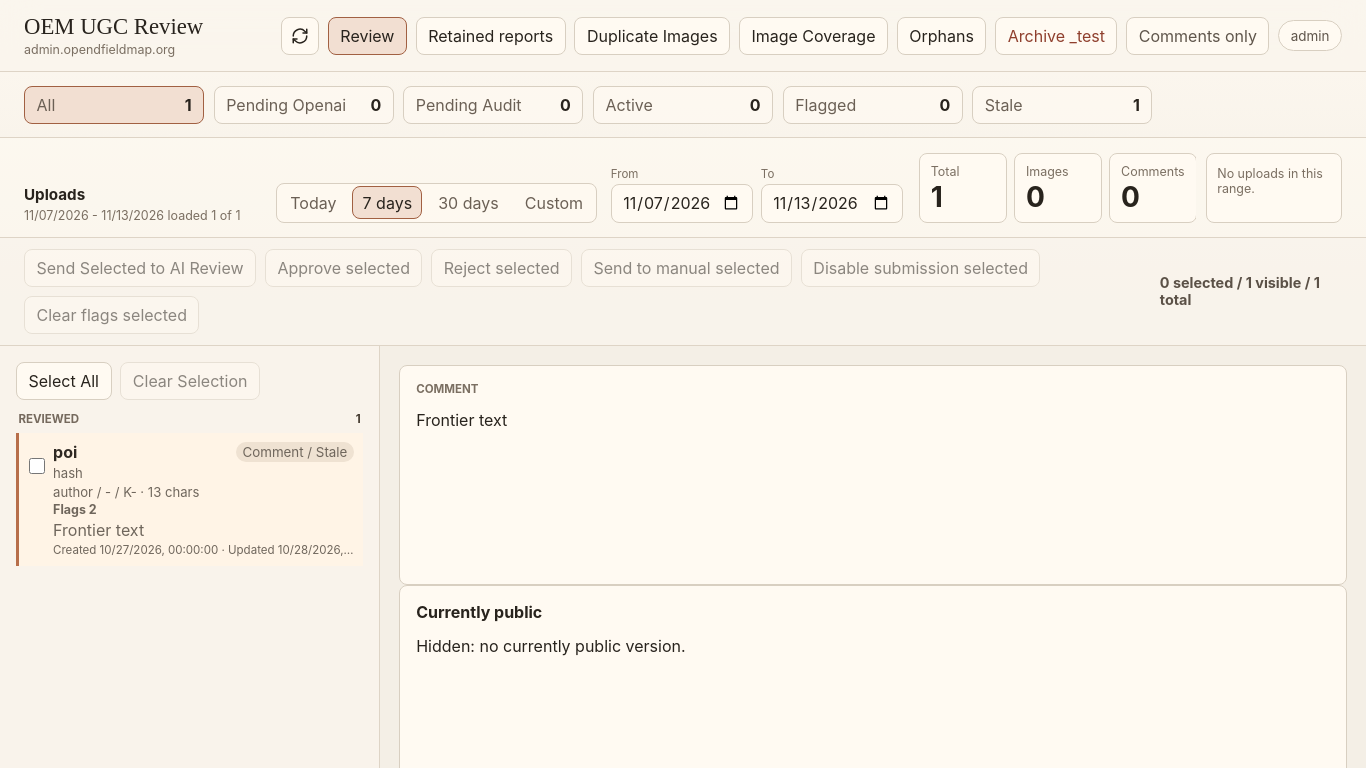
browses hidden comment and image reports without queue dates, pages, and resets after clearing
Click the button "Retained reports" at (491, 36), box [416,16,566,54]
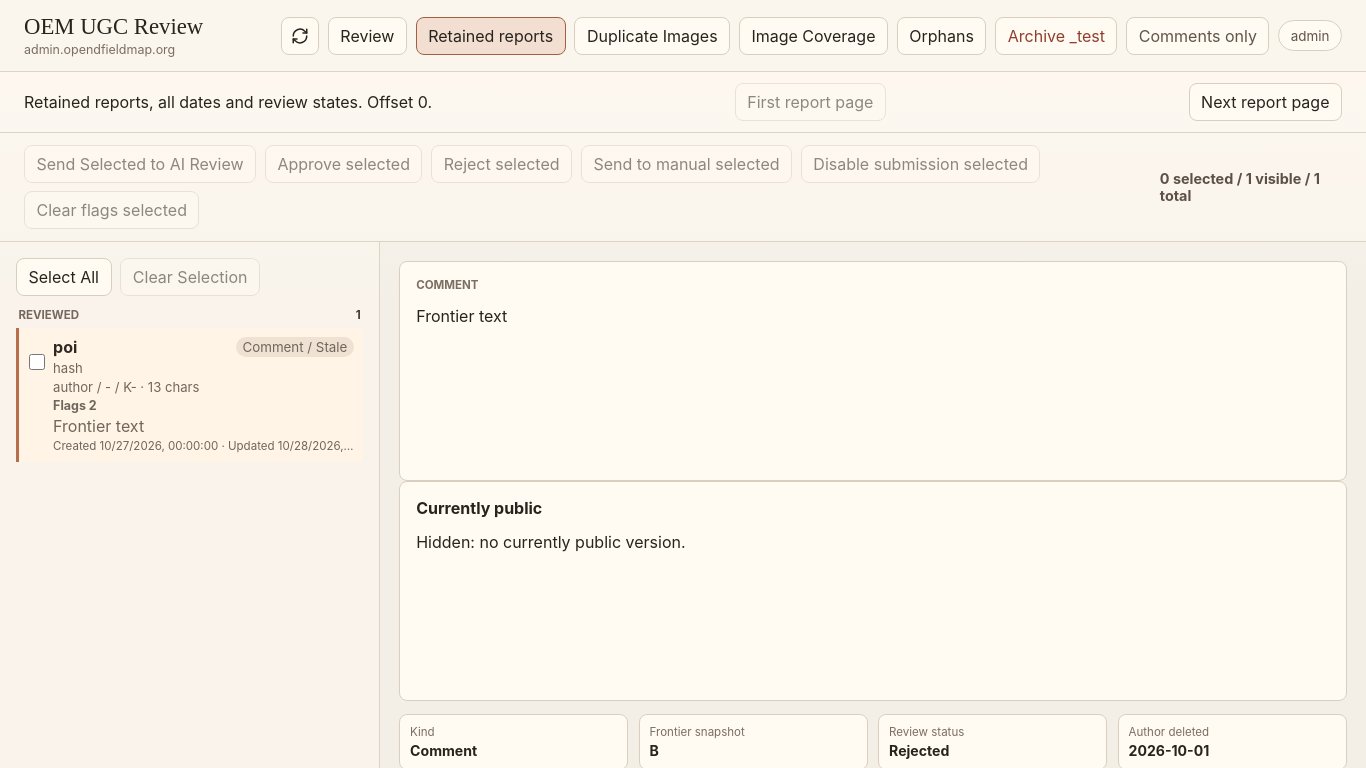
Expected: the text "Hidden: no currently public version." is shown, [416,532,686,552]
Expected: the button "Next report page" is shown
Click the button "Next report page" at (1265, 102), box [1189,83,1342,121]
(page scrolled)
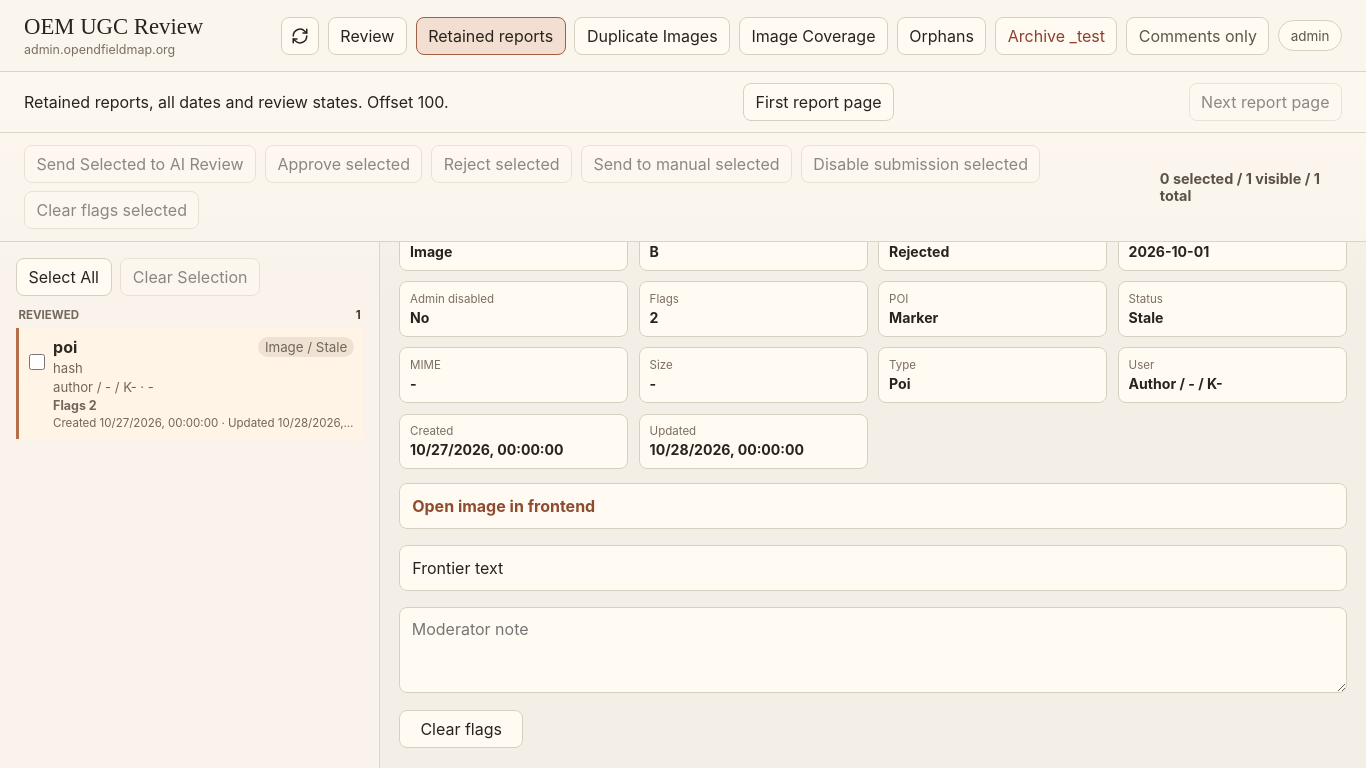
Expected: the button "Clear flags" is shown
Click the button "Clear flags" at (461, 729), box [399,710,523,748]
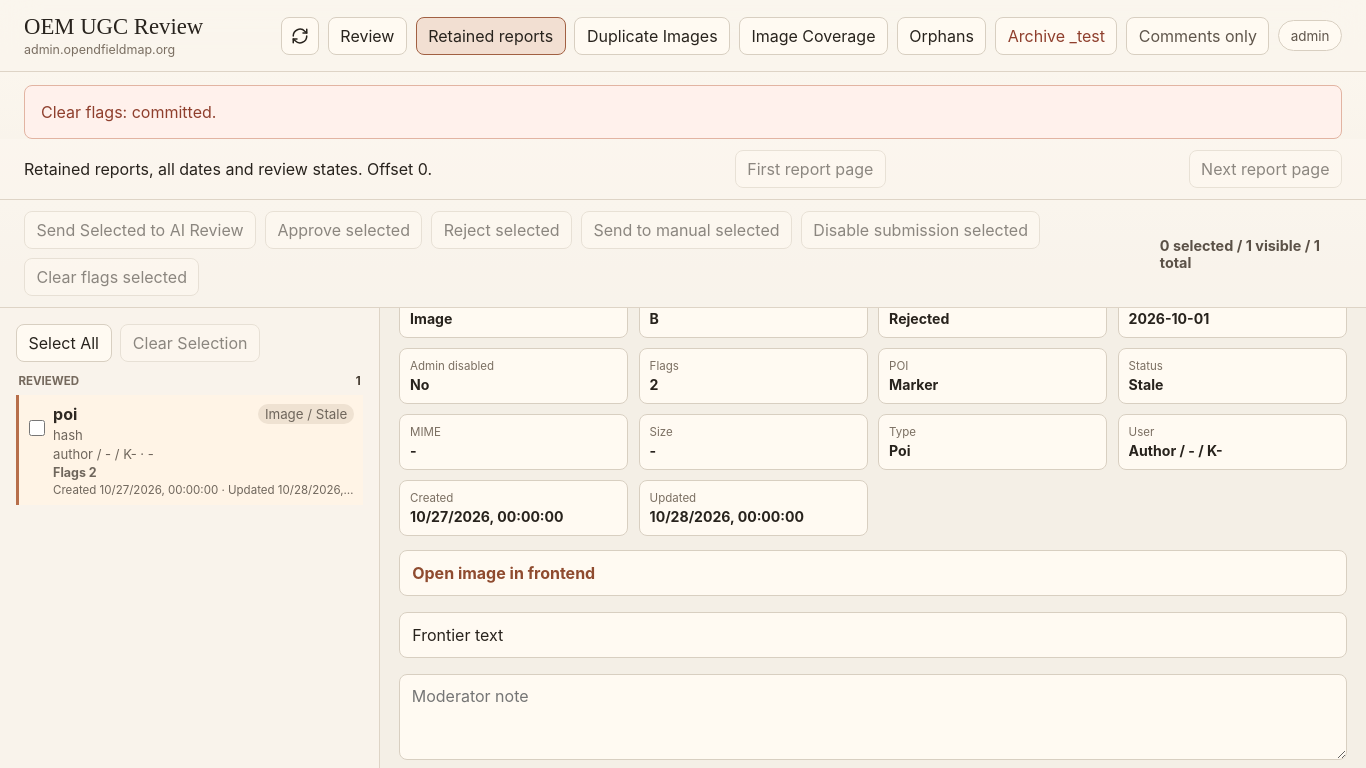
Expected: the text "Offset 0." is shown, [24,159,432,179]
